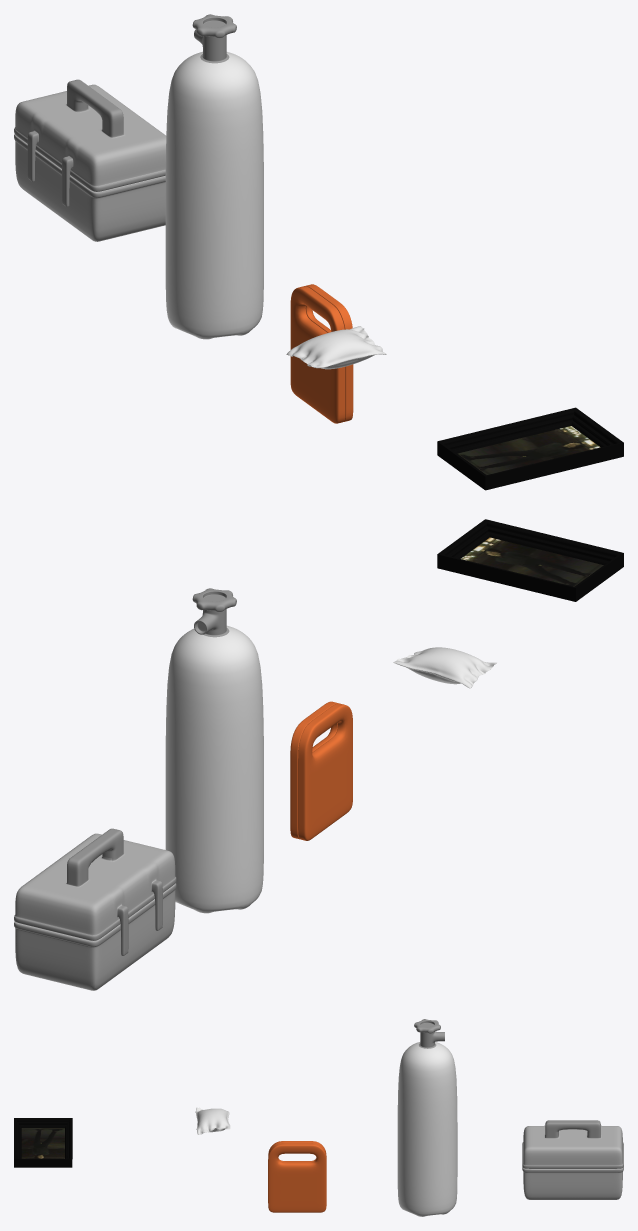
Rendered from itemy.fbx.
The picture shows the model from 3 angles, top to bottom: view 1: azimuth 30°, elevation 25°; view 2: azimuth 150°, elevation 25°; view 3: azimuth 270°, elevation 25°; orthographic projection. The views are drawn at different scales.
Parts seen in each view (by area): view 1: butla, skrzynka, zdj, kit, racja; view 2: butla, skrzynka, zdj, kit, racja; view 3: butla, skrzynka, kit, zdj, racja.
Part boxes in pixels (<box>): butla: <box>165,14,263,339</box>; skrzynka: <box>14,79,166,241</box>; zdj: <box>437,407,623,490</box>; kit: <box>290,284,353,423</box>; racja: <box>286,326,386,369</box>; butla: <box>165,588,263,913</box>; skrzynka: <box>14,828,176,990</box>; zdj: <box>437,519,623,601</box>; kit: <box>290,701,352,840</box>; racja: <box>393,647,496,688</box>; butla: <box>397,1019,457,1216</box>; skrzynka: <box>522,1120,623,1199</box>; kit: <box>268,1141,326,1212</box>; zdj: <box>14,1118,72,1167</box>; racja: <box>195,1107,230,1134</box>.
Size of the model in its own units: 390 by 705 by 2087.
7 materials, 1 textured.
